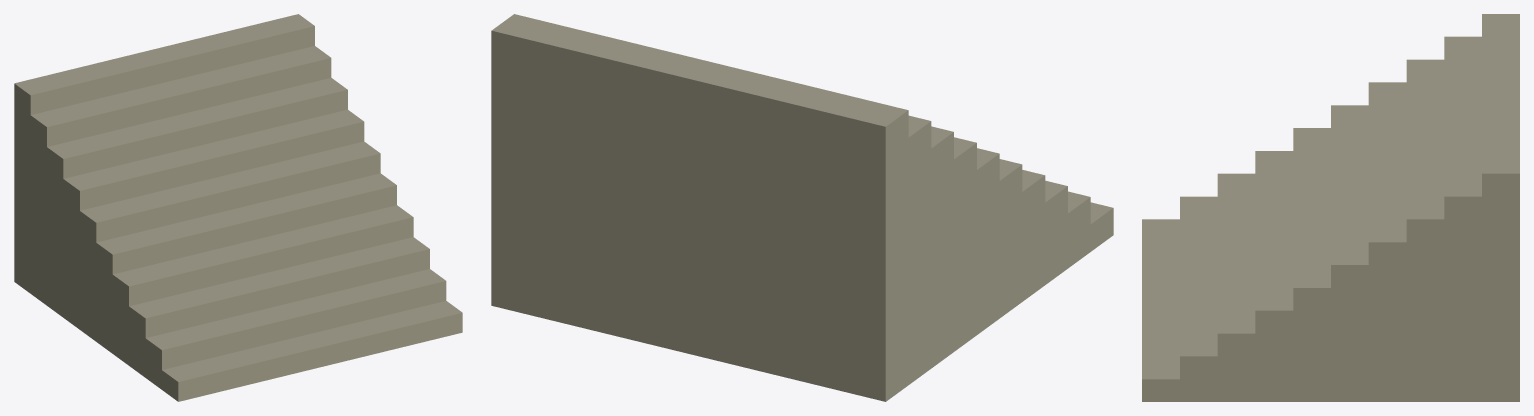
File: WP_A18_stairs_rise_2m_v02.glb
3 views of the same model, side by side, from view 1: azimuth 30°, elevation 25°; view 2: azimuth 150°, elevation 25°; view 3: azimuth 270°, elevation 25° (orthographic). The views are drawn at different scales.
Parts seen in each view (by area): view 1: StairSolid; view 2: StairSolid; view 3: StairSolid.
Part boxes in pixels (x1,y1,x2,y2): StairSolid: [14, 14, 462, 401]; StairSolid: [491, 14, 1113, 401]; StairSolid: [1142, 14, 1519, 401].
Bounding box in the file's own units: 3 × 2 × 3.
